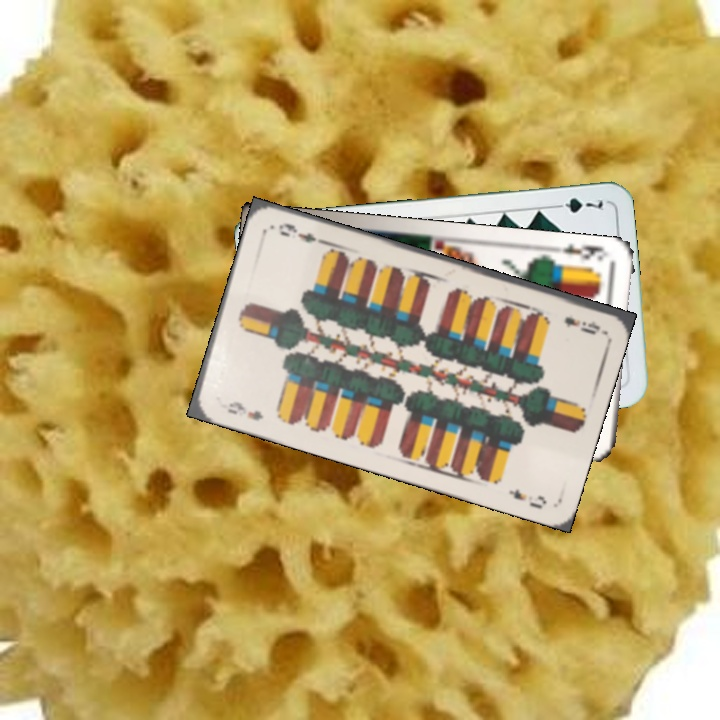E9: (223, 397, 266, 423), (560, 312, 603, 337)
EK: (558, 240, 612, 264)
G7: (548, 194, 606, 215)
